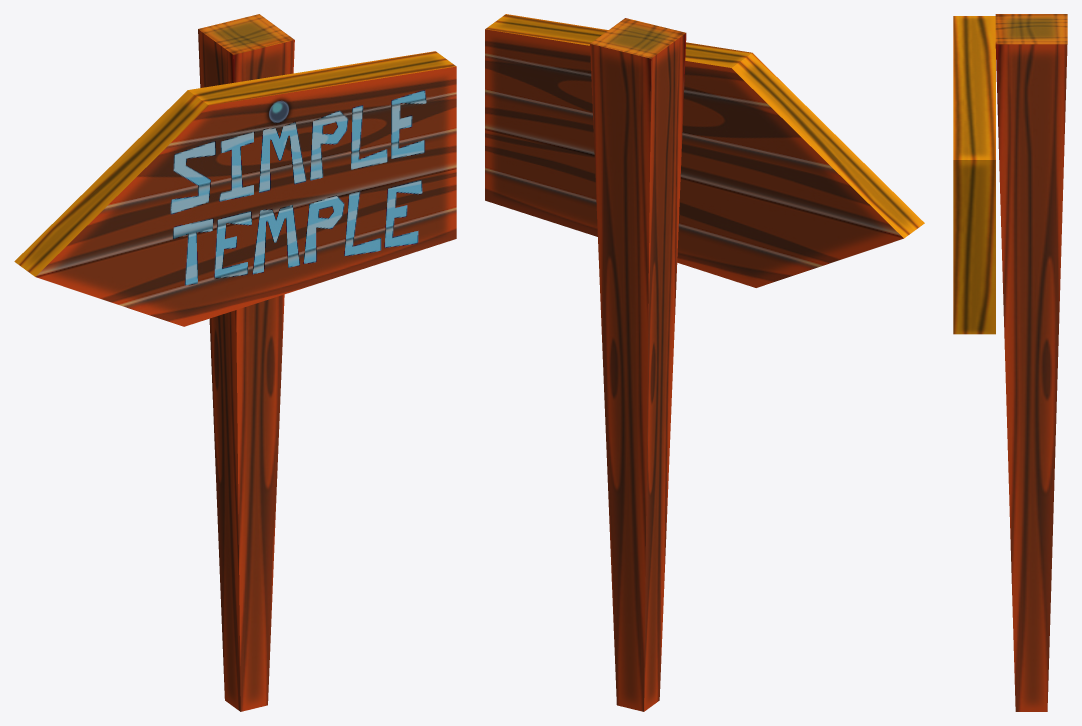
The model's file is sign2.FBX.
3 views of the same model, side by side, from view 1: azimuth 30°, elevation 25°; view 2: azimuth 150°, elevation 25°; view 3: azimuth 270°, elevation 25° (orthographic).
Parts seen in each view (by area): view 1: sign2; view 2: sign2; view 3: sign2.
Part boxes in pixels (box(x1,y1,x2,y2)): sign2: box(14, 14, 456, 711); sign2: box(485, 14, 924, 711); sign2: box(953, 14, 1067, 711).
Size of the model in its own units: 2.92 by 0.6754 by 4.42.
